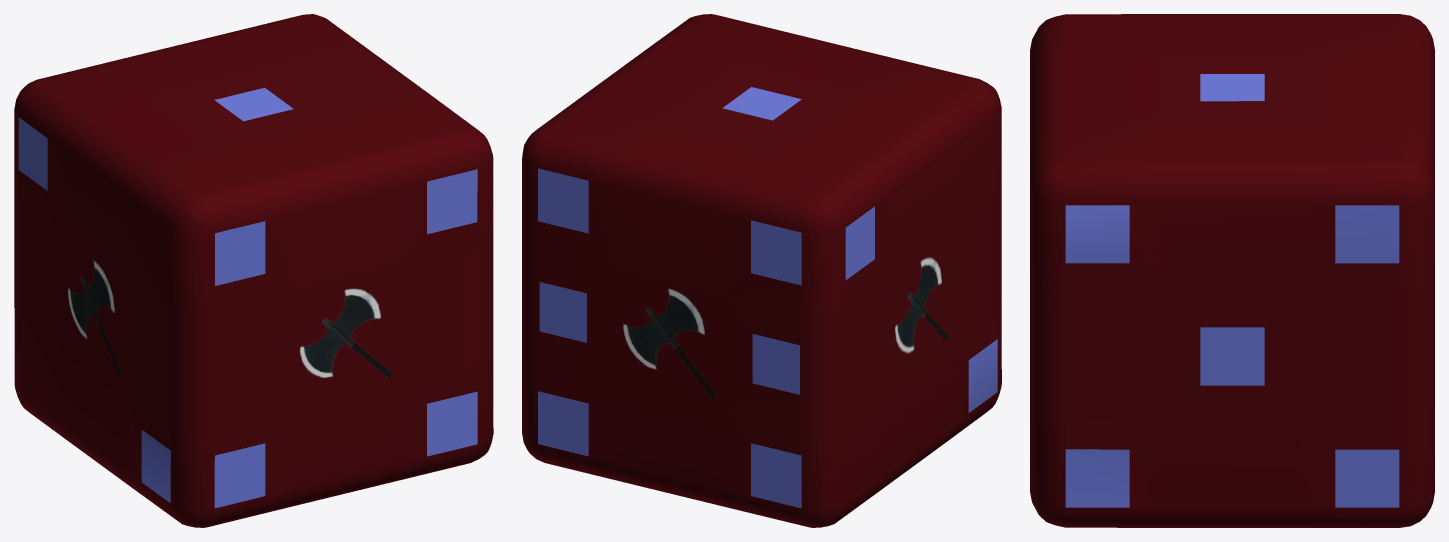
Rendered from AxeDice.fbx.
3 views of the same model, side by side, from view 1: azimuth 30°, elevation 25°; view 2: azimuth 150°, elevation 25°; view 3: azimuth 270°, elevation 25° (orthographic). The views are drawn at different scales.
Visible parts, largest first — view 1: ExecutionDice; view 2: ExecutionDice; view 3: ExecutionDice.
Part boxes in pixels (box(x1,y1,x2,y2)): ExecutionDice: box(14, 14, 493, 527); ExecutionDice: box(522, 14, 1001, 527); ExecutionDice: box(1030, 14, 1434, 527).
Size of the model in its own units: 200 by 200 by 200.
